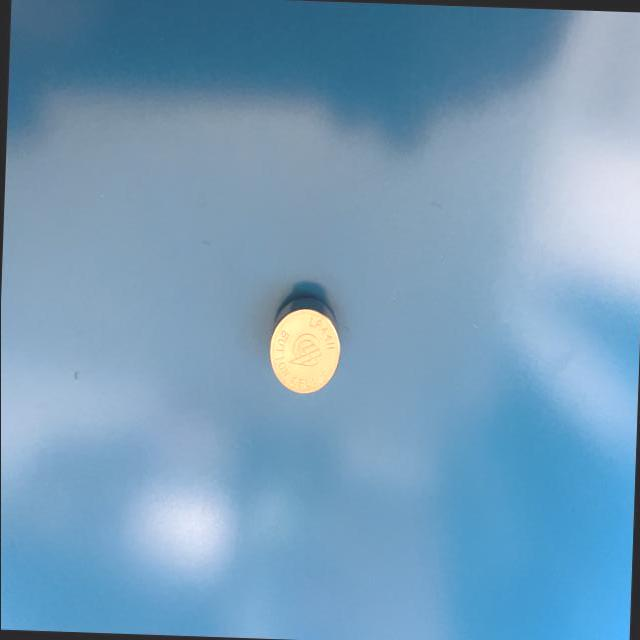COIN: (267, 296, 342, 394)
